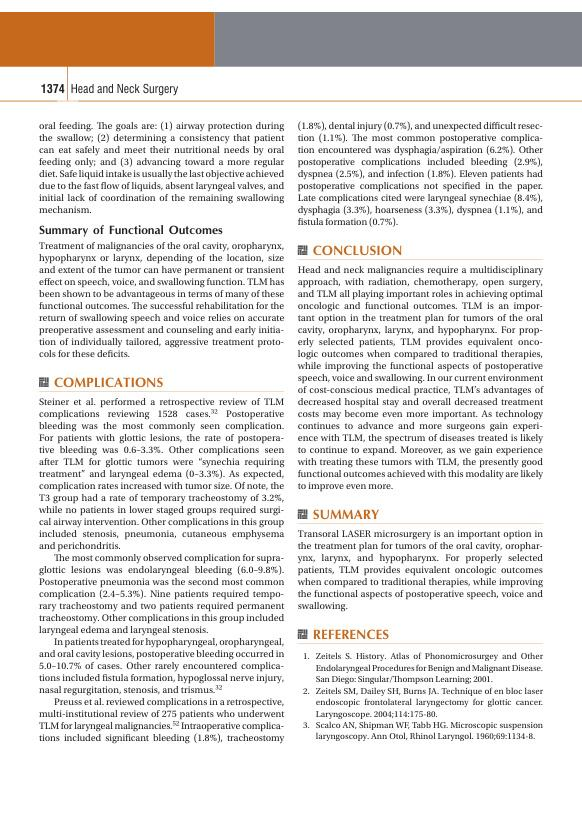header: (70, 83, 180, 96)
list: (302, 650, 545, 743)
section-heading: (52, 375, 165, 389), (311, 244, 404, 257), (312, 628, 390, 641), (311, 507, 380, 521)
sub-section-heading: (38, 224, 224, 237)
text: (37, 396, 286, 744), (297, 264, 544, 492), (37, 240, 285, 359), (296, 118, 546, 227), (37, 120, 286, 215), (296, 528, 544, 613)
